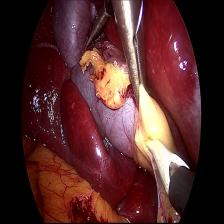Grasper: (115, 34, 154, 108), (82, 14, 107, 56)
Hook: (145, 134, 189, 196)
